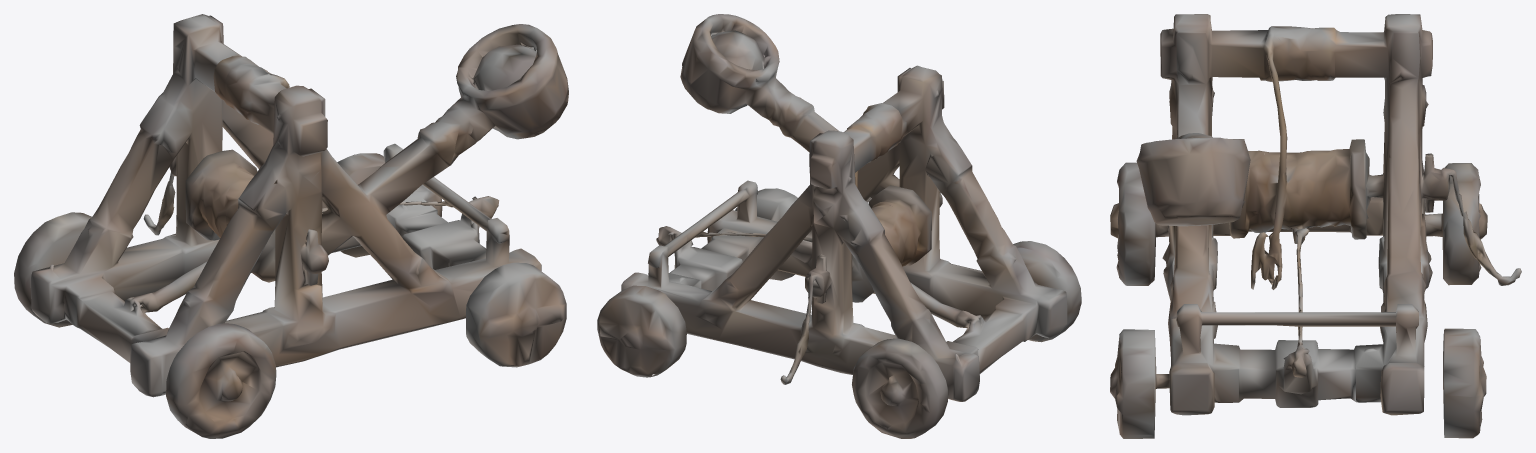
File: catapult.glb
The picture shows the model from 3 angles, left to right: view 1: azimuth 30°, elevation 25°; view 2: azimuth 150°, elevation 25°; view 3: azimuth 270°, elevation 25°; orthographic projection. The views are drawn at different scales.
Bounding box in the file's own units: 0.9998 × 0.6772 × 0.7894.
